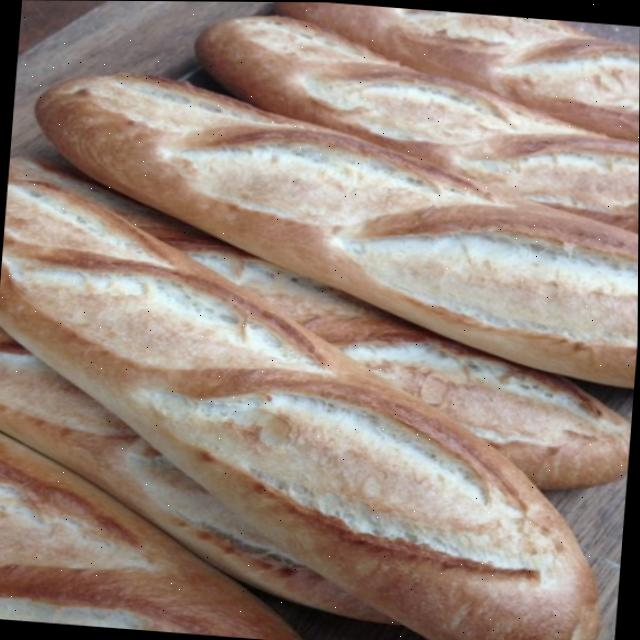猪肉菜式: (0, 0, 640, 572)
